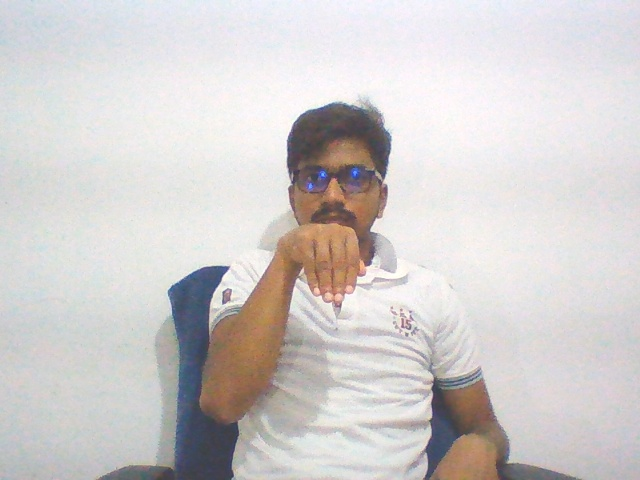Squirrel: (270, 218, 374, 310)
